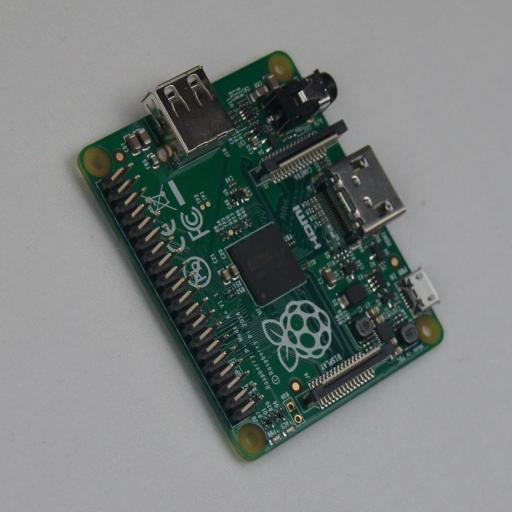Raspberry Pi A-: (76, 51, 444, 461)
